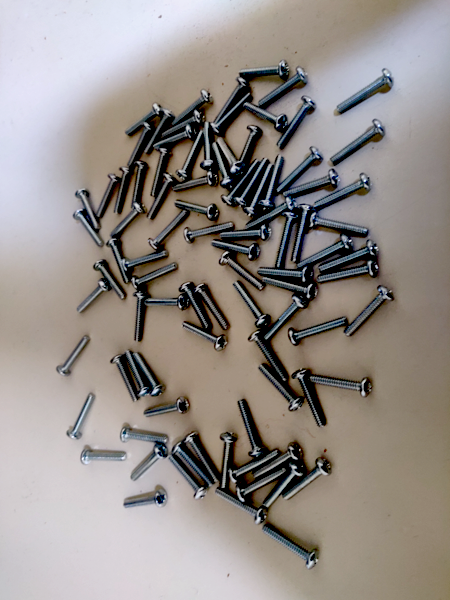longscrew: (266, 97, 314, 155), (331, 119, 385, 169), (263, 525, 319, 571), (338, 70, 394, 116), (349, 286, 393, 343), (257, 364, 304, 410), (215, 158, 260, 206), (263, 462, 305, 513), (315, 177, 371, 215), (296, 235, 355, 271), (276, 151, 322, 197), (318, 243, 380, 277), (252, 70, 307, 107), (265, 296, 306, 345), (284, 458, 330, 501), (214, 487, 266, 525), (246, 332, 287, 380), (208, 76, 249, 124), (292, 369, 325, 428), (241, 160, 275, 217), (226, 281, 270, 325), (284, 170, 337, 205), (234, 158, 269, 211), (211, 91, 254, 134), (150, 208, 189, 255), (319, 259, 380, 289), (290, 317, 349, 348), (171, 130, 206, 181), (230, 447, 278, 484), (236, 466, 284, 503), (251, 442, 299, 479), (226, 127, 262, 176), (168, 457, 208, 501), (174, 443, 214, 487), (245, 198, 295, 233), (180, 436, 220, 479), (255, 152, 284, 211), (233, 99, 291, 128), (220, 253, 262, 293), (168, 87, 212, 125), (195, 284, 231, 330), (270, 211, 297, 271), (305, 375, 373, 398), (289, 203, 315, 263), (182, 322, 230, 353), (143, 108, 174, 156), (129, 263, 179, 292), (310, 215, 373, 238), (55, 335, 91, 375), (133, 352, 165, 396), (238, 400, 263, 456), (147, 172, 175, 222), (123, 159, 151, 209), (178, 283, 209, 328), (159, 109, 204, 139), (125, 102, 161, 139), (106, 167, 133, 216), (67, 391, 93, 440), (186, 220, 235, 246), (105, 206, 142, 240), (71, 210, 104, 248), (69, 190, 102, 228), (148, 145, 172, 197), (262, 275, 318, 297), (133, 447, 166, 484), (127, 119, 150, 172), (212, 137, 244, 175), (212, 139, 236, 189), (93, 261, 126, 297), (238, 60, 292, 82), (94, 175, 120, 220), (110, 358, 137, 401), (124, 351, 149, 396), (218, 225, 274, 245), (107, 239, 129, 287), (155, 127, 195, 153), (171, 175, 218, 197), (78, 282, 107, 317), (124, 250, 168, 273), (209, 240, 259, 260), (142, 399, 188, 420), (217, 433, 234, 488), (169, 200, 219, 218), (198, 117, 214, 172), (258, 265, 312, 281), (123, 492, 168, 511), (142, 295, 192, 312), (131, 293, 147, 342), (80, 450, 127, 464), (121, 430, 168, 444)
